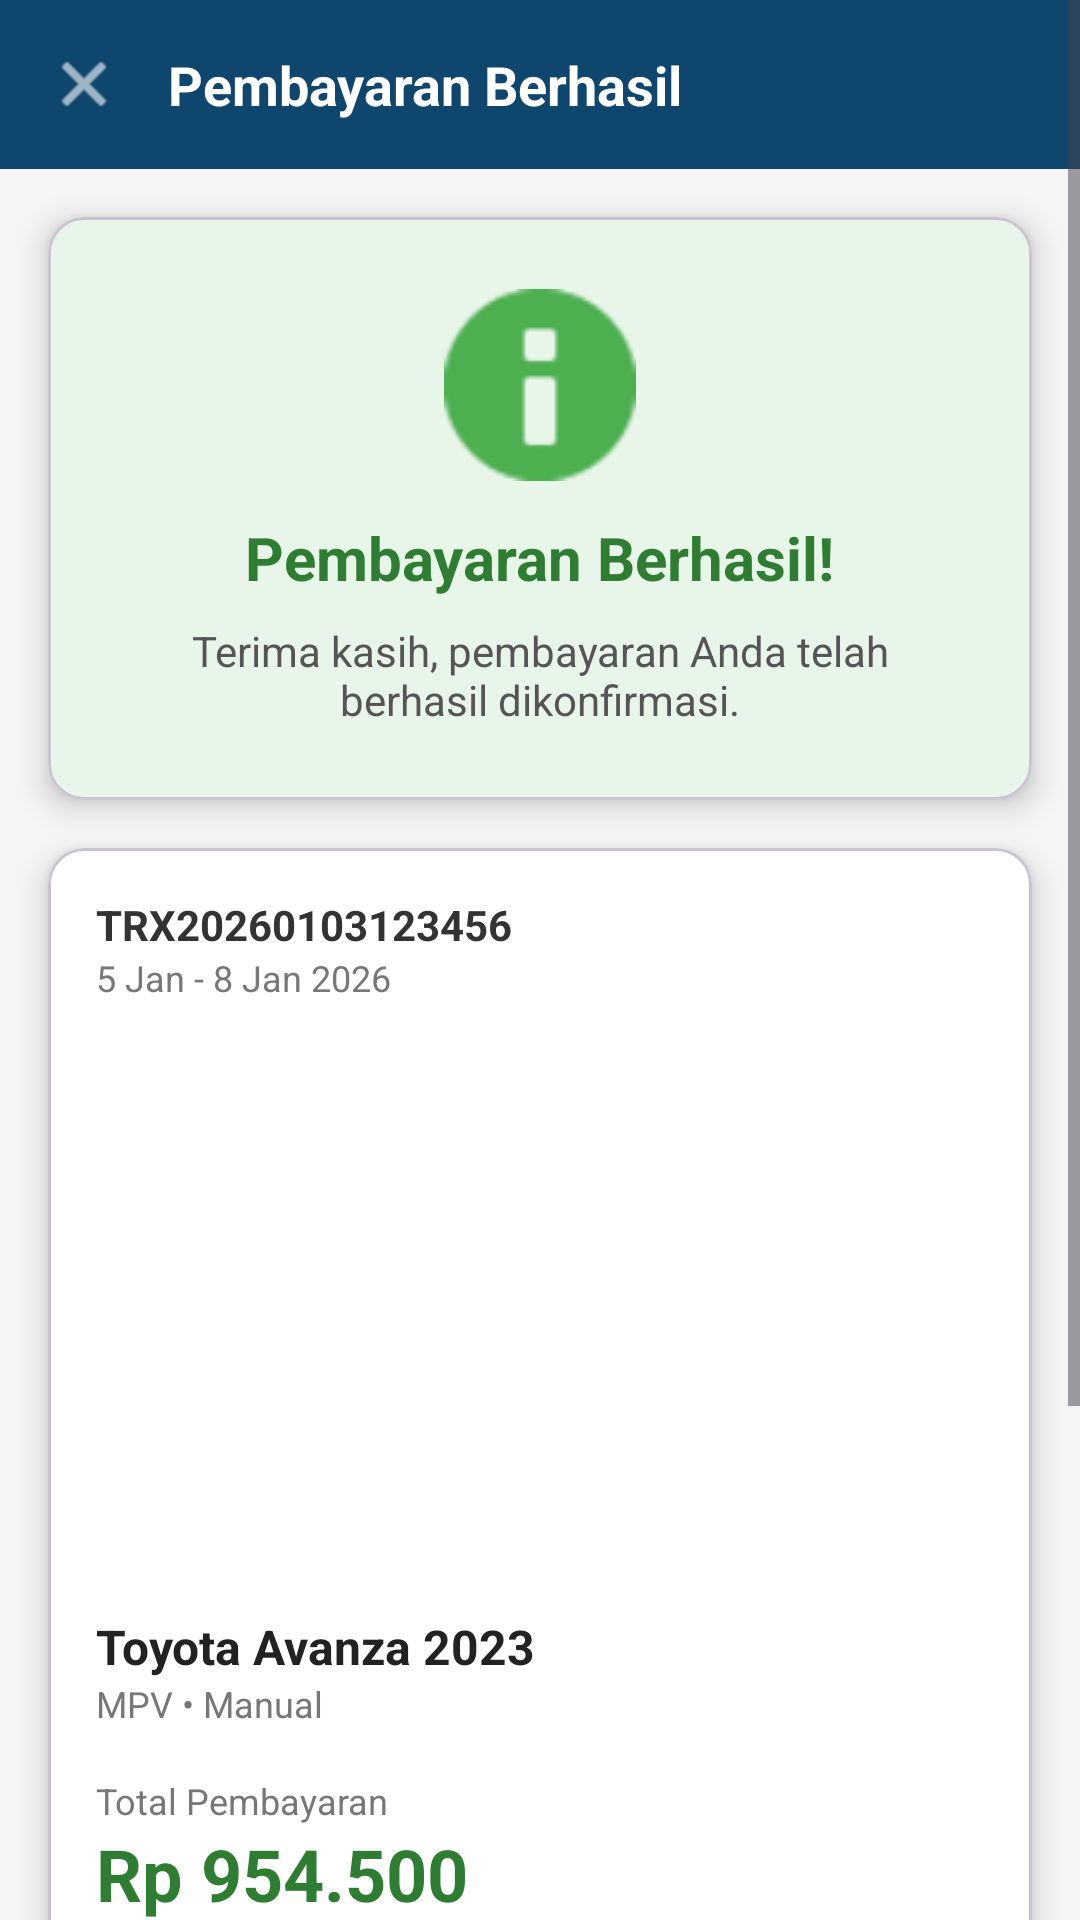

Icon bounding boxes for this 1080x1920 phone screenshot, format (x1, y1, x2, y2):
close clear cancel: (61, 61, 107, 107)
info: (444, 289, 636, 481)
